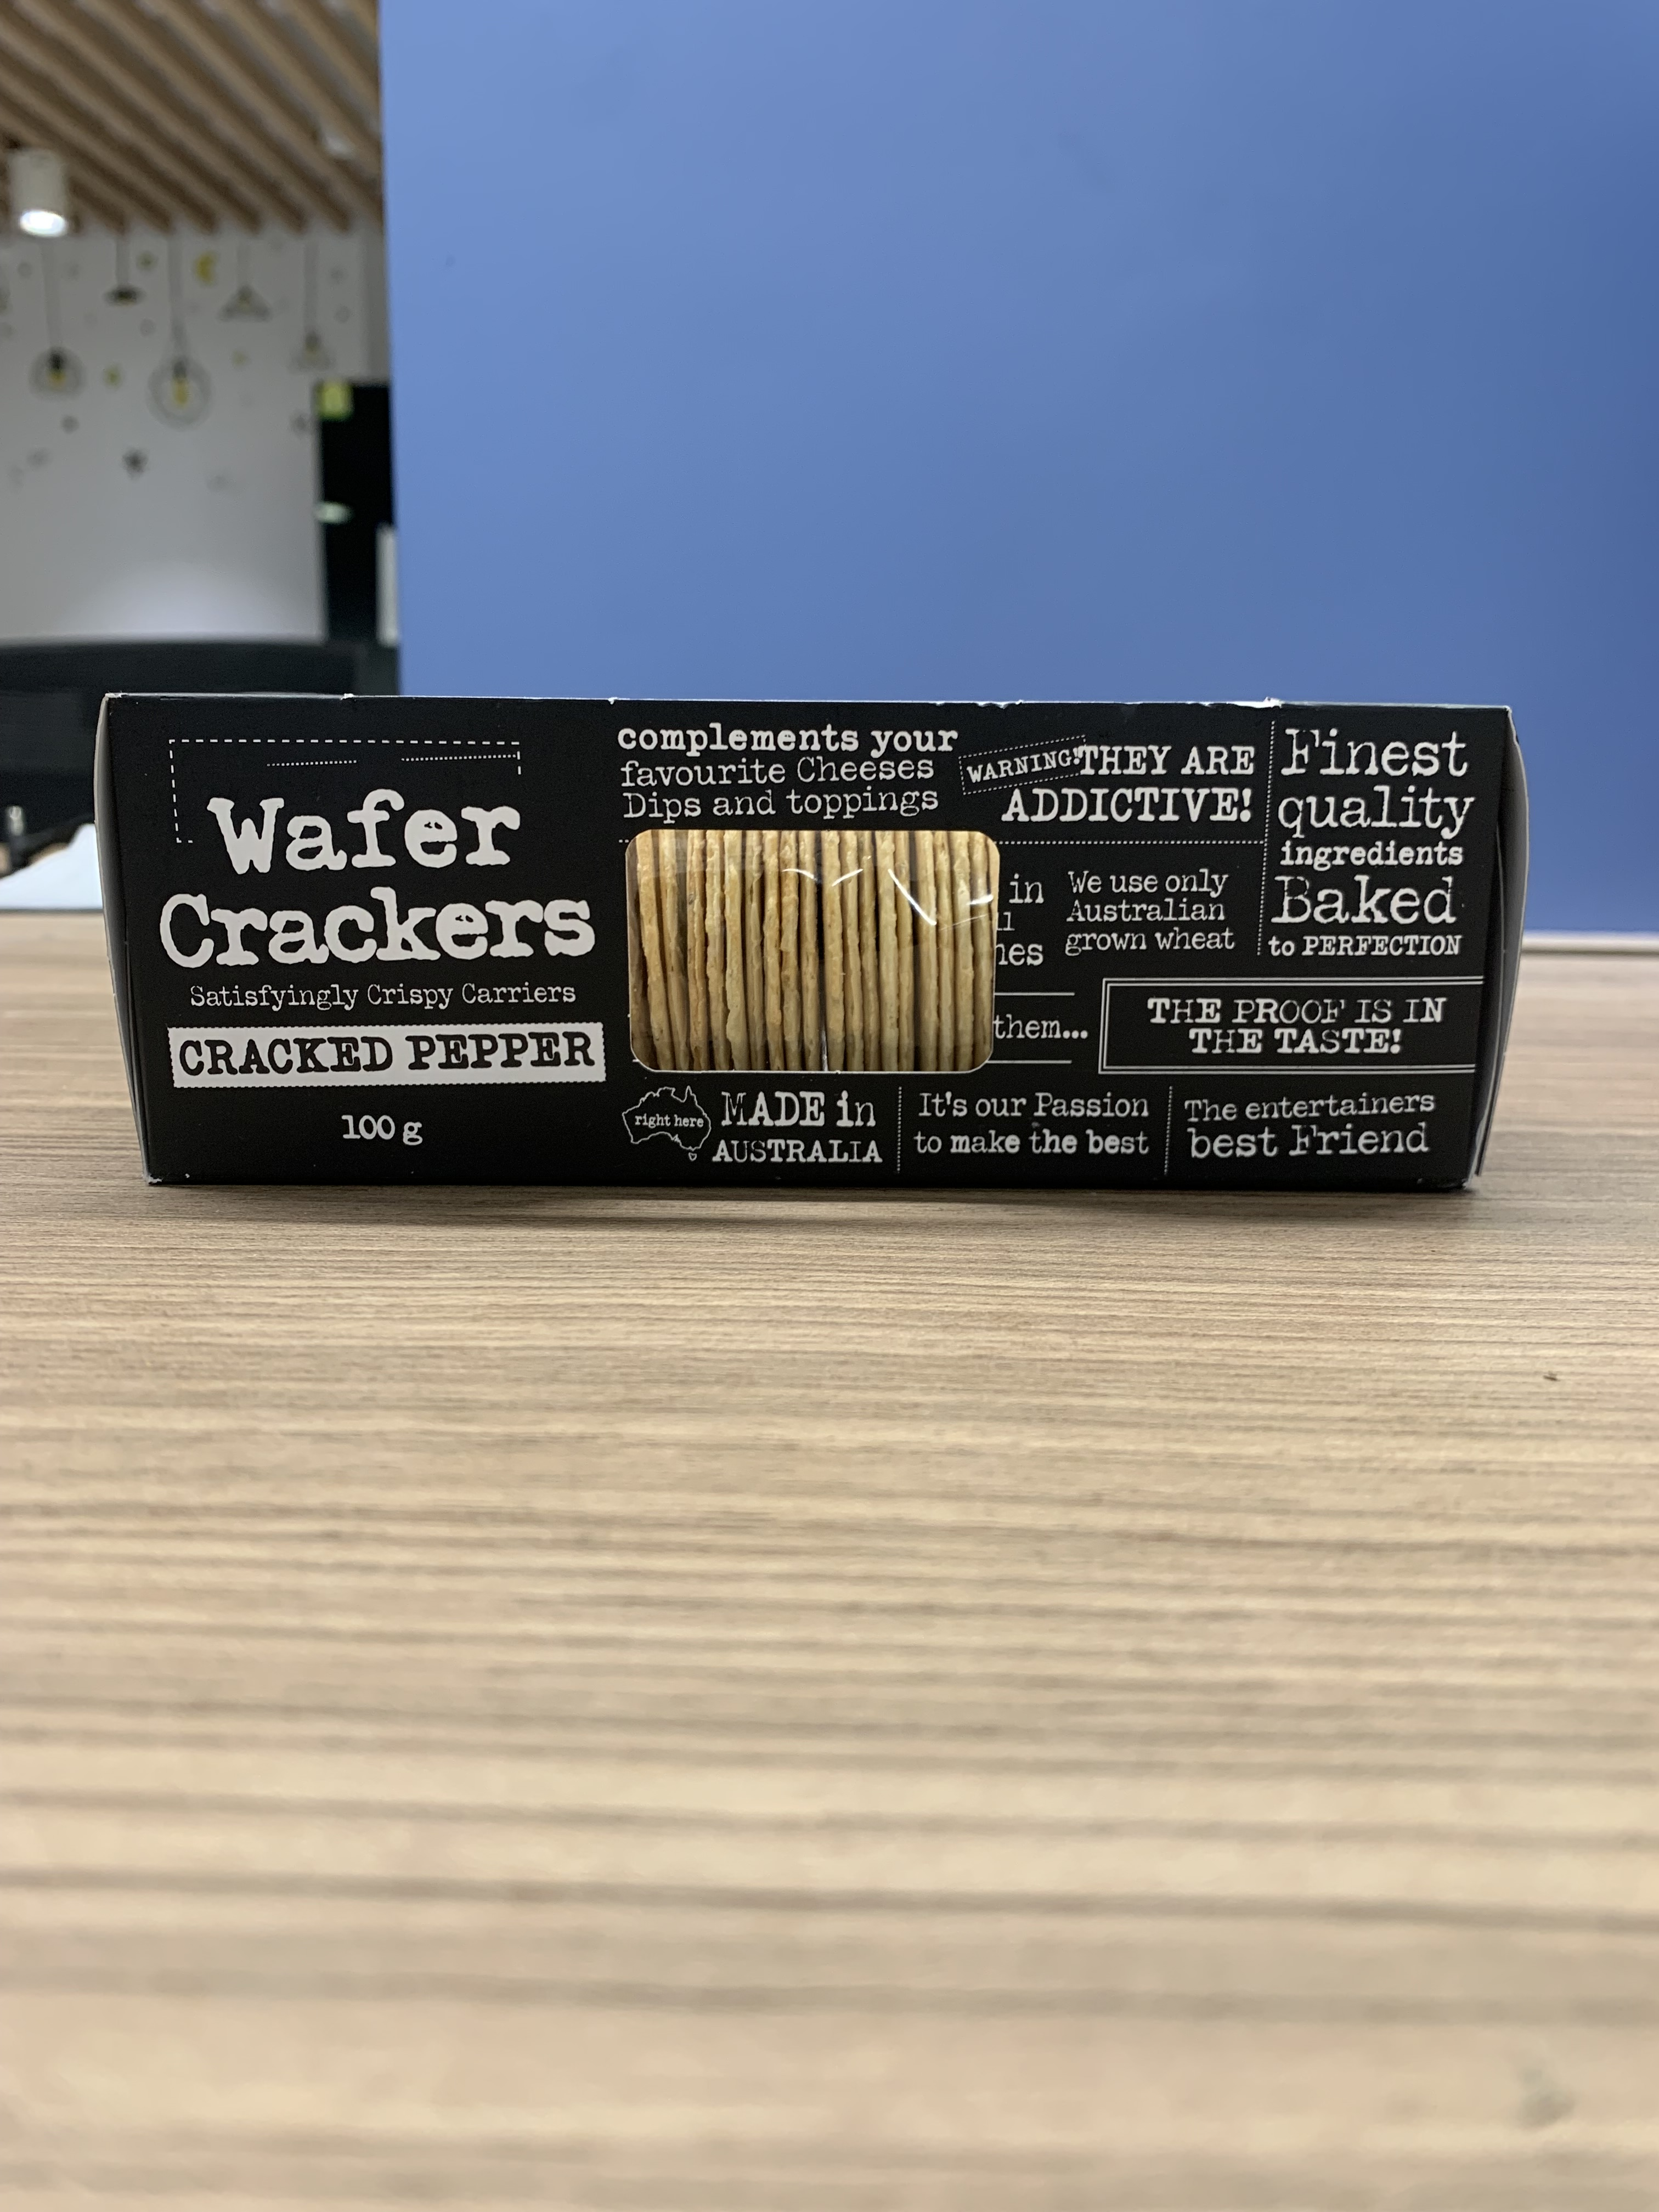crackers_100g-199g: (143, 695, 1466, 1163)
